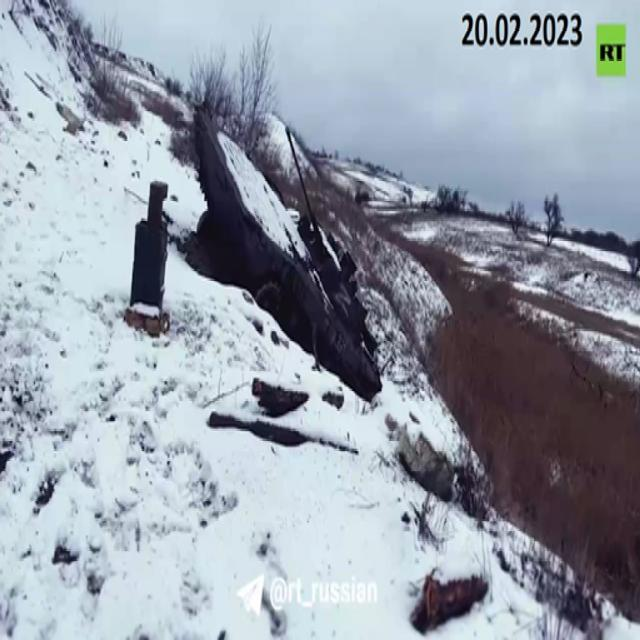APC-IFV: (188, 100, 390, 407)
